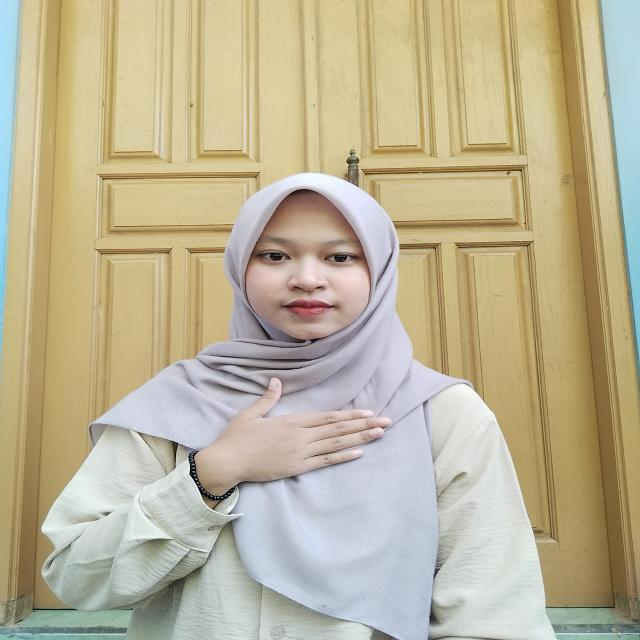tolong: (184, 377, 398, 519)
